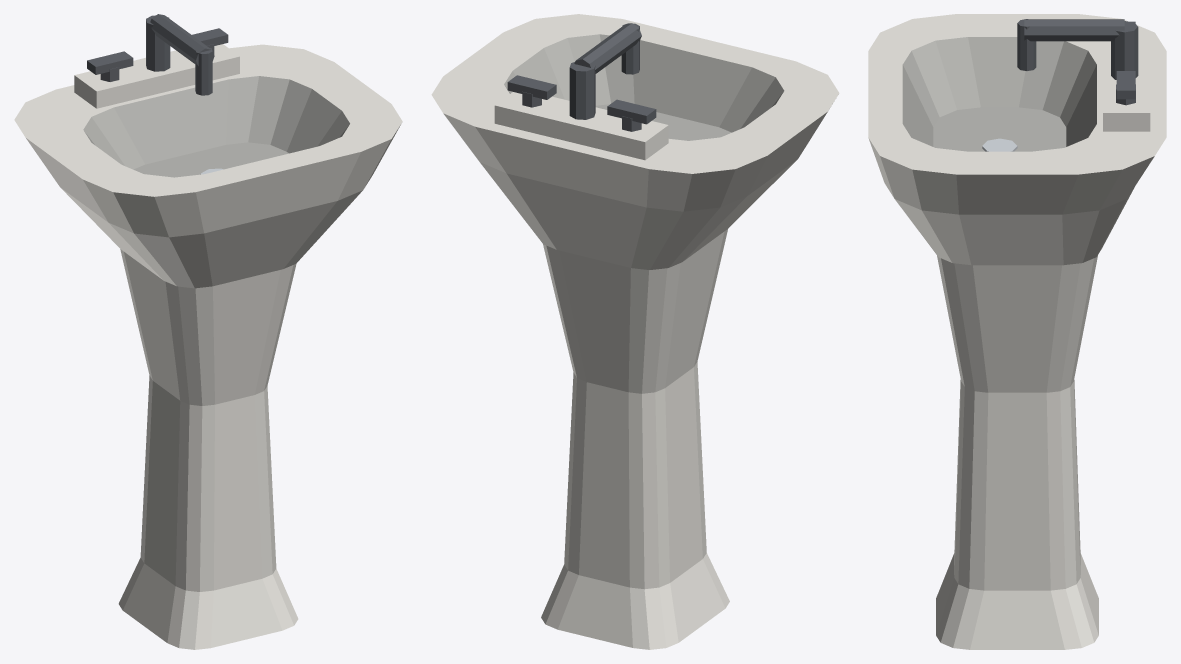
Rendered from FN_Basin_Pedestal.glb.
The picture shows the model from 3 angles, left to right: view 1: azimuth 30°, elevation 25°; view 2: azimuth 150°, elevation 25°; view 3: azimuth 270°, elevation 25°; orthographic projection. The views are drawn at different scales.
Visible parts, largest first — view 1: FN_Basin_Pedestal; view 2: FN_Basin_Pedestal; view 3: FN_Basin_Pedestal.
Part boxes in pixels (bbox=[...]): FN_Basin_Pedestal: bbox=[14, 14, 402, 649]; FN_Basin_Pedestal: bbox=[431, 14, 839, 649]; FN_Basin_Pedestal: bbox=[868, 14, 1166, 649].
Bounding box in the file's own units: 0.56 × 0.971 × 0.44.
1 material, 1 textured.
